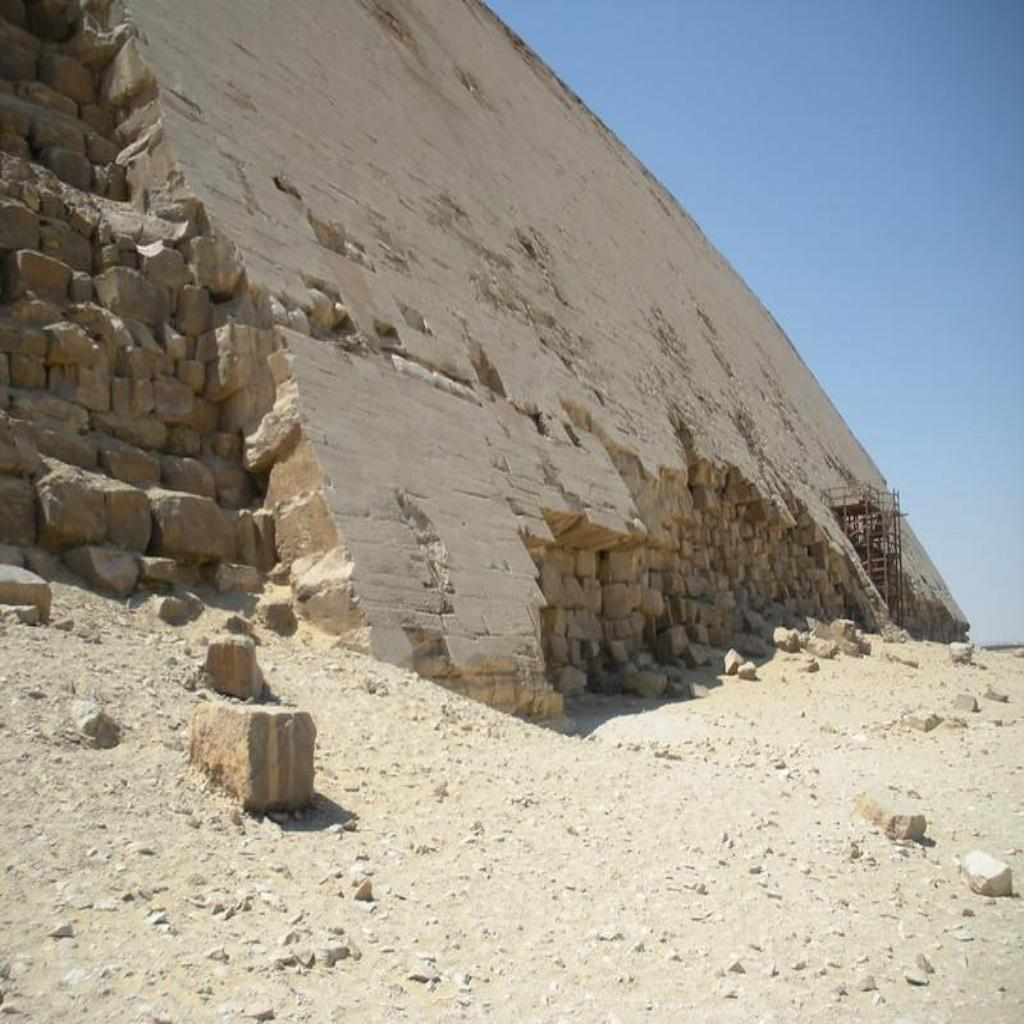Bent Pyramid of King Sneferu: (4, 2, 970, 718)
